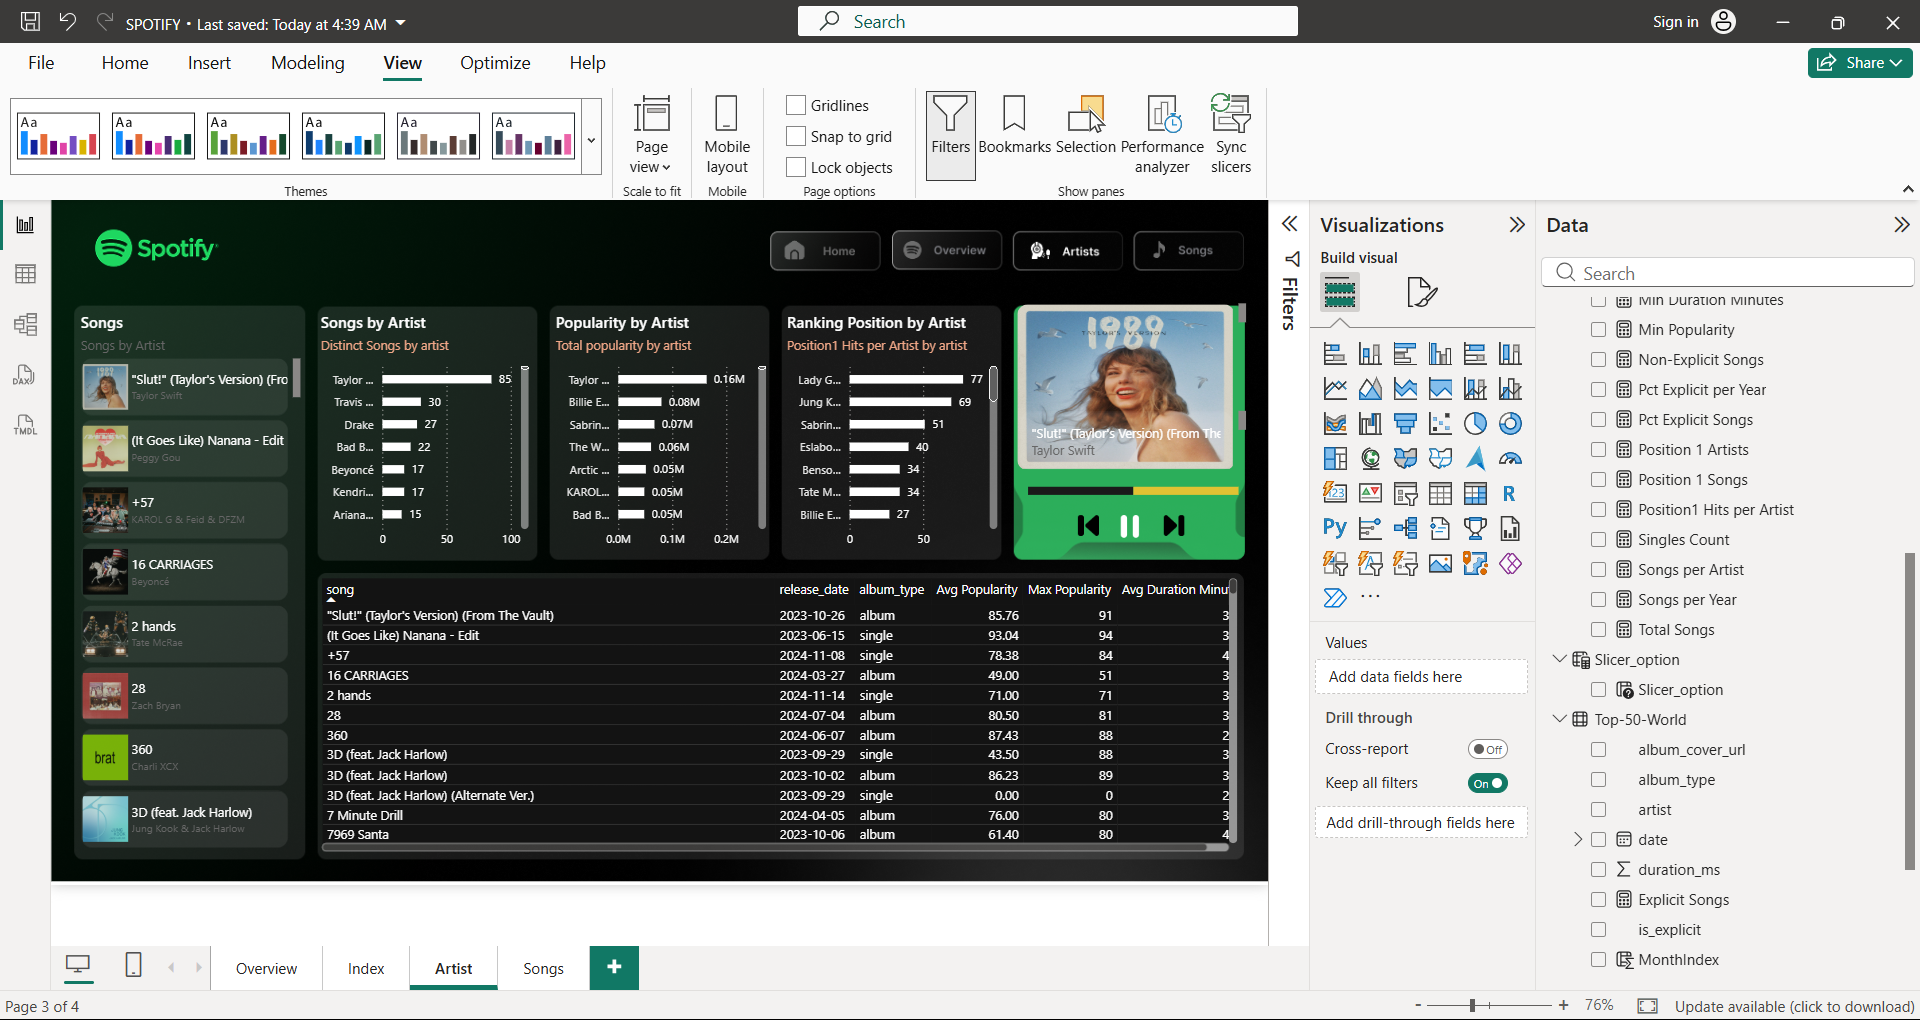

The dashboard page shown, as its layout file describes it:
{"tool":"powerbi","page":{"name":"Artist","canvas":[1280,720],"ordinal":2},"visuals":[{"type":"actionButton","box":[757.7,32.6,115.7,40.7],"z":0},{"type":"actionButton","box":[885.2,32.6,115.7,40.7],"z":1000},{"type":"actionButton","box":[1012.7,32.6,115.7,40.7],"z":2000},{"type":"actionButton","box":[1140.2,32.6,115.7,40.7],"z":3000},{"type":"advancedSlicerVisual","title":"Songs","fields":{"Values":["Top-50-World.song"]},"box":[1009.5,103.8,252.4,185.3],"z":4000},{"type":"advancedSlicerVisual","title":"Songs","fields":{"Values":["Top-50-World.song"]},"box":[1013.4,216.9,248.4,72.3],"z":5000},{"type":"image","box":[1076,329.4,28.9,25],"z":6000},{"type":"image","box":[1168,329.4,25,25],"z":7000},{"type":"image","box":[1122,330.7,23.7,23.7],"z":8000},{"type":"hundredPercentStackedBarChart","fields":{"Y":["_Measures.Avg Popularity","_Measures.Avg Popularity Explicit"]},"box":[1022.6,265.5,231.3,74.9],"z":9000},{"type":"advancedSlicerVisual","title":"Songs","fields":{"Values":["Top-50-World.song"]},"box":[26.3,117,241.9,573.1],"z":10000},{"type":"tableEx","fields":{"Values":["Top-50-World.song","Top-50-World.release_date","Top-50-World.album_type","_Measures.Avg Popularity","_Measures.Max Popularity","_Measures.Avg Duration Minutes"]},"box":[278.7,393,974,297.1],"z":11000},{"type":"clusteredBarChart","title":"Songs by Artist","fields":{"Y":["_Measures.Distinct Songs"],"Category":["Top-50-World.artist"]},"box":[278.7,117,228.7,257.6],"z":12000},{"type":"clusteredBarChart","title":"Popularity by Artist","fields":{"Y":["Sum(Top-50-World.popularity)"],"Category":["Top-50-World.artist"]},"box":[525.8,117,231.3,257.6],"z":13000},{"type":"clusteredBarChart","title":"Ranking Position by Artist","fields":{"Category":["Top-50-World.artist"],"Y":["_Measures.Position1 Hits per Artist"]},"box":[768.9,117,231.3,257.6],"z":14000}]}

Visuals, with their boxes on the page's 1280x720 design canvas (x1, y1, x2, y2). These are canvas units, not pixel positions in the 1920x1020 screenshot, which may show the page scaled, cropped or inside an application window:
actionButton: 758, 33, 873, 73
actionButton: 885, 33, 1001, 73
actionButton: 1013, 33, 1128, 73
actionButton: 1140, 33, 1256, 73
"Songs" advancedSlicerVisual: 1010, 104, 1262, 289
"Songs" advancedSlicerVisual: 1013, 217, 1262, 289
image: 1076, 329, 1105, 354
image: 1168, 329, 1193, 354
image: 1122, 331, 1146, 354
hundredPercentStackedBarChart - _Measures.Avg Popularity x _Measures.Avg Popularity Explicit: 1023, 266, 1254, 340
"Songs" advancedSlicerVisual: 26, 117, 268, 690
tableEx - Top-50-World.song x Top-50-World.release_date: 279, 393, 1253, 690
"Songs by Artist" clusteredBarChart: 279, 117, 507, 375
"Popularity by Artist" clusteredBarChart: 526, 117, 757, 375
"Ranking Position by Artist" clusteredBarChart: 769, 117, 1000, 375
